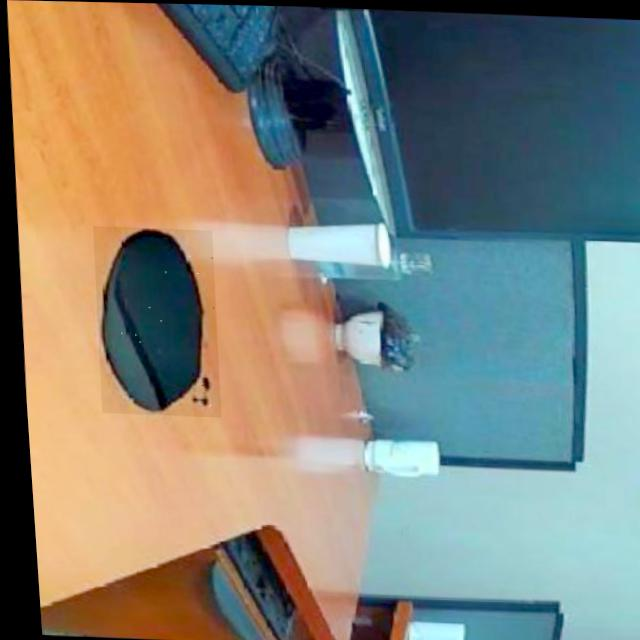spillage: (92, 227, 213, 414)
